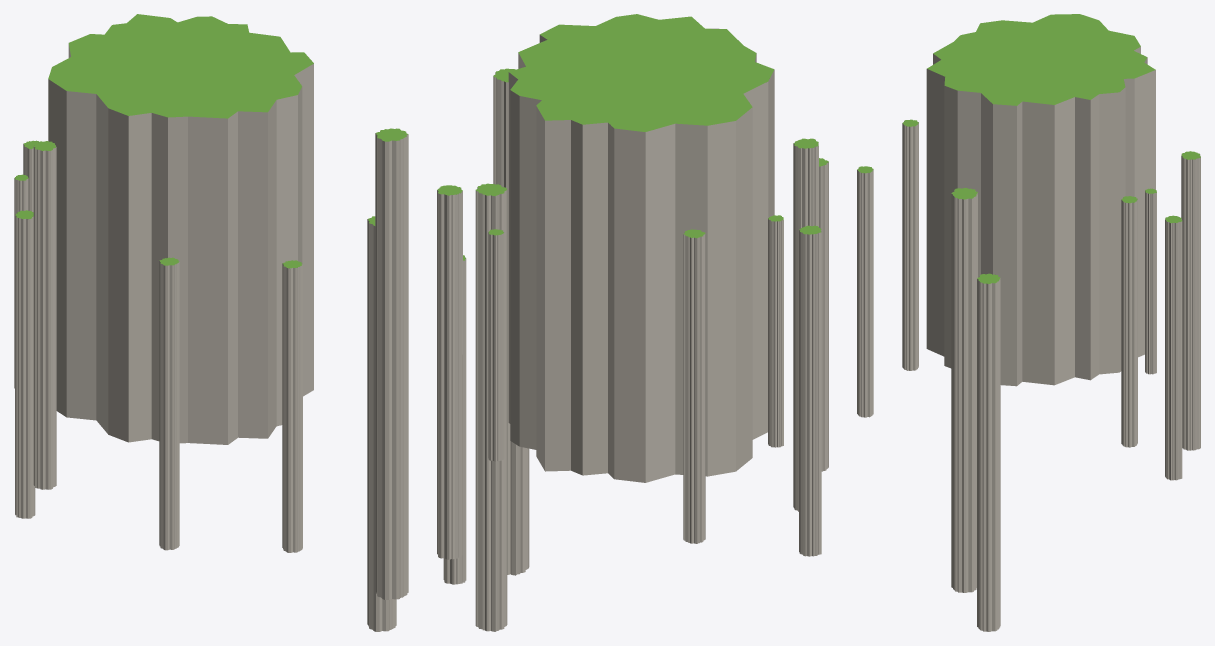
The model's file is float-transformed.glb.
3 views of the same model, side by side, from view 1: azimuth 30°, elevation 25°; view 2: azimuth 150°, elevation 25°; view 3: azimuth 270°, elevation 25° (orthographic). The views are drawn at different scales.
Parts seen in each view (by area): view 1: Terrain; view 2: Terrain; view 3: Terrain.
Boxes of the visible parts, x1,y1,x2,y2 form: Terrain: (14, 14, 408, 631); Terrain: (437, 14, 828, 631); Terrain: (857, 14, 1200, 631).
Size of the model in its own units: 284 by 448 by 282.
